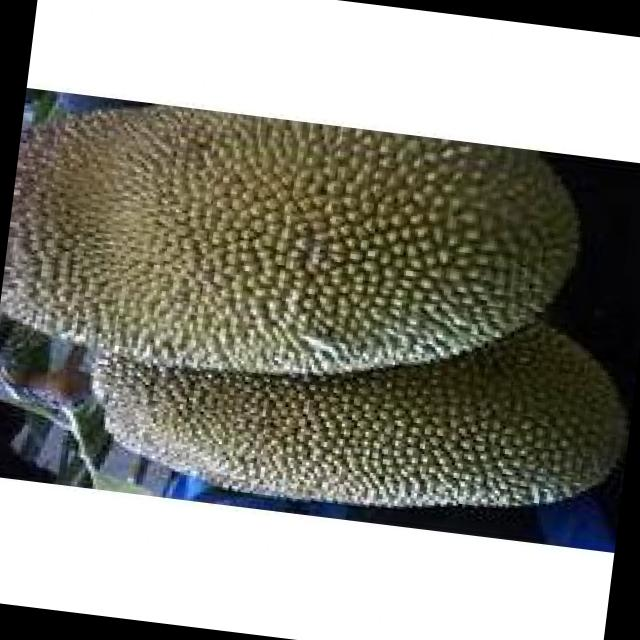Fruit: (0, 90, 396, 518)
